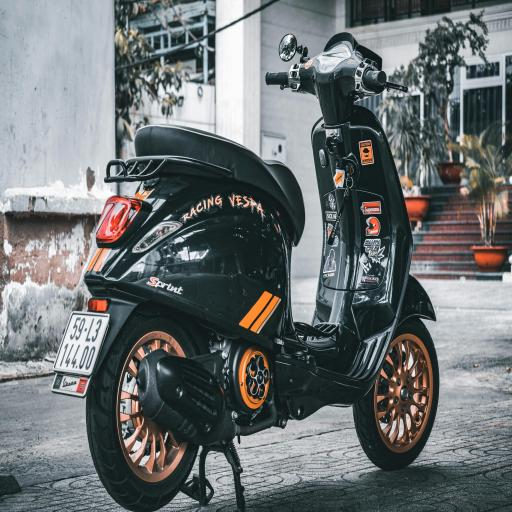place: (55, 314, 106, 372)
